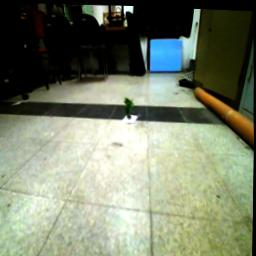herb: (125, 96, 135, 122)
